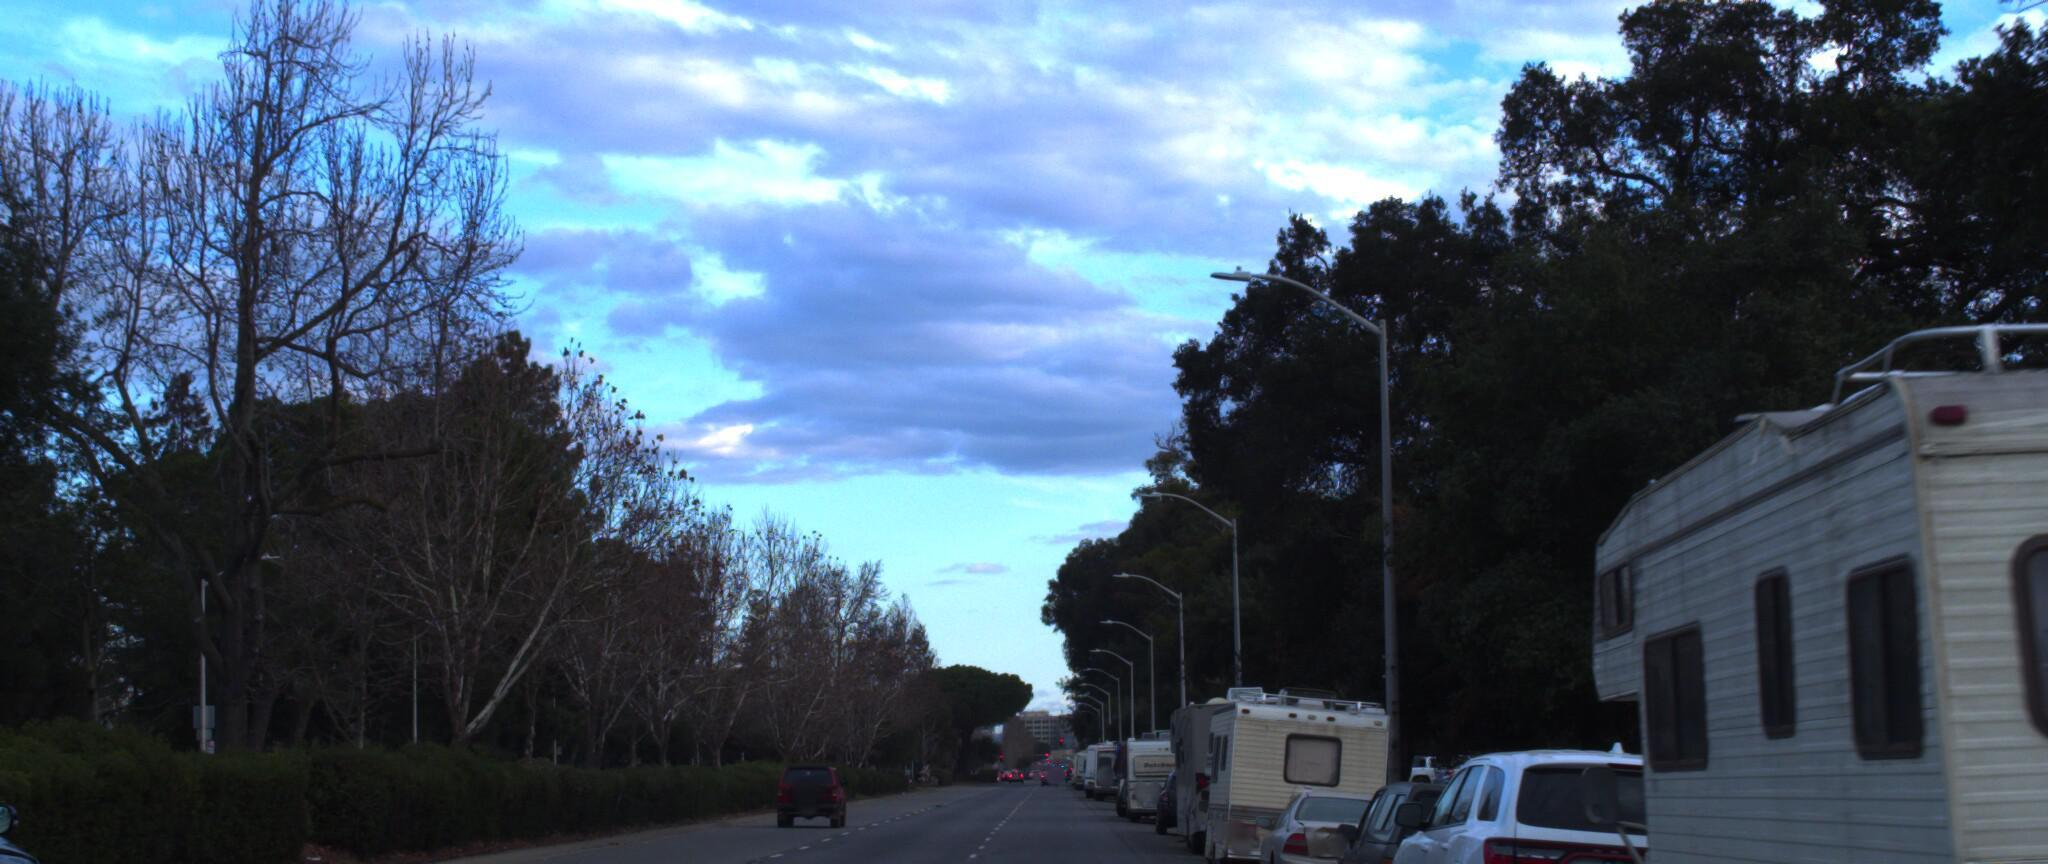car: (1341, 736, 1789, 864), (1293, 764, 1622, 864), (1224, 777, 1417, 864), (0, 707, 81, 864), (769, 749, 852, 820)
other_vehicle: (1546, 253, 2048, 864), (1174, 670, 1409, 864), (1149, 668, 1334, 851)
